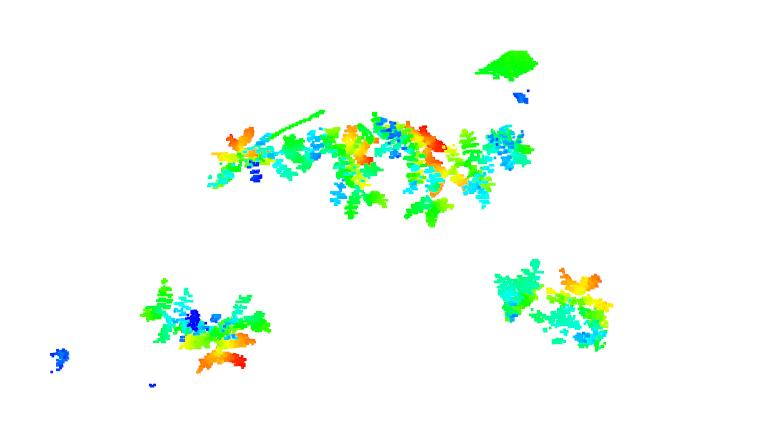chickpea: (136, 272, 273, 377), (323, 110, 397, 220), (447, 119, 533, 210), (398, 105, 455, 230), (541, 264, 617, 354), (198, 124, 277, 193), (494, 255, 547, 335), (271, 120, 334, 184)
